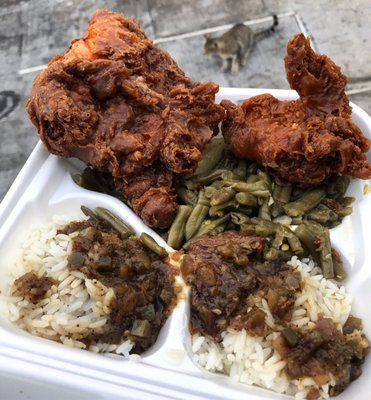soup: (26, 8, 225, 234)
